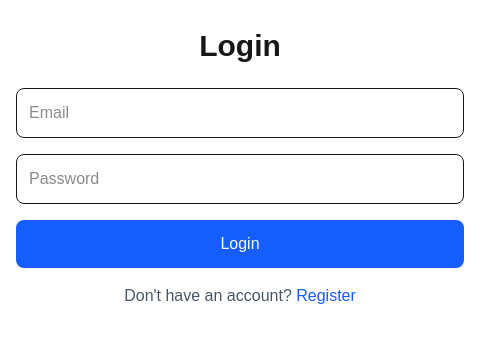
it: LoginPage › should display error message when signIn returns an error
The width and height of the screenshot is (481, 339).
Type "test@test.com" into the field with placeholder "Email". click: (240, 113)
box: [16,88,464,138]
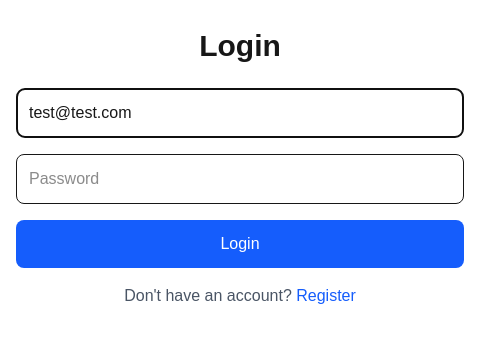
Type "wrongpassword" into the password field with placeholder "Password". click: (240, 179)
box: [16,154,464,204]
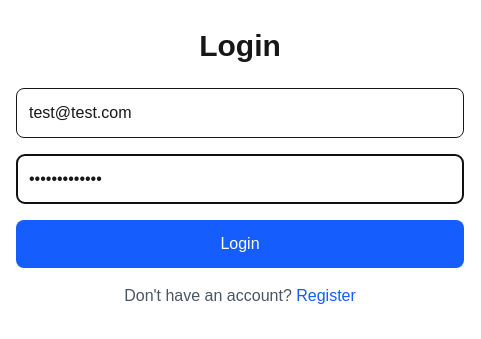
Click the button "Login". click: (240, 244)
box: [16,220,464,268]
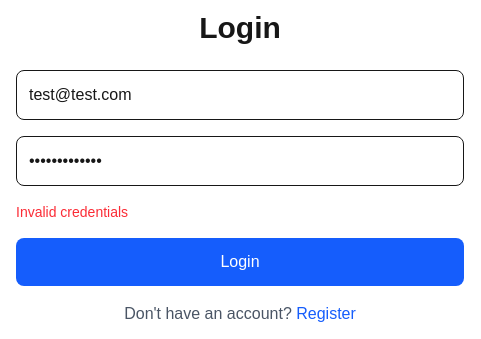
Expected: the text "Invalid credentials" is shown, [16,204,128,220]
